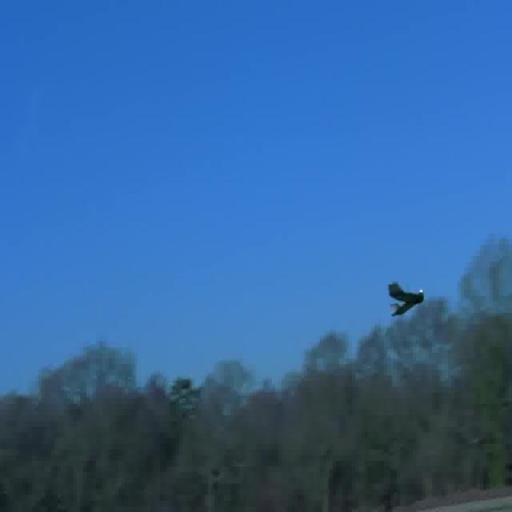uav: (388, 278, 426, 326)
